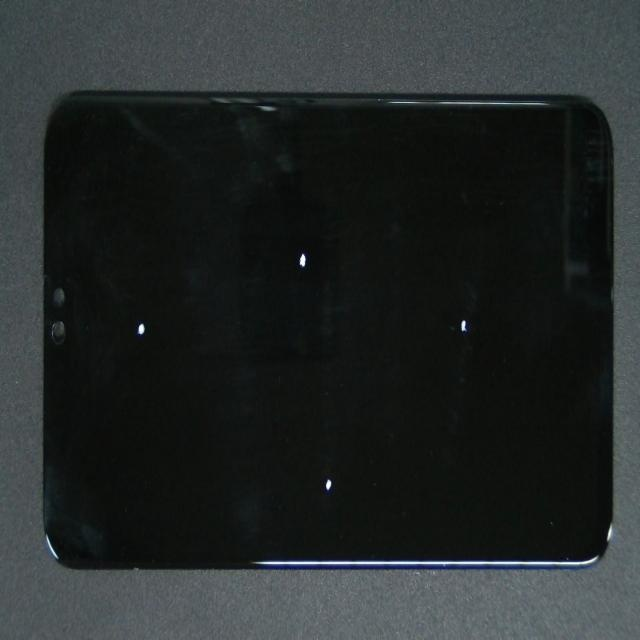stain: (219, 140, 640, 501), (164, 213, 480, 640), (129, 138, 435, 420), (49, 159, 195, 528)
